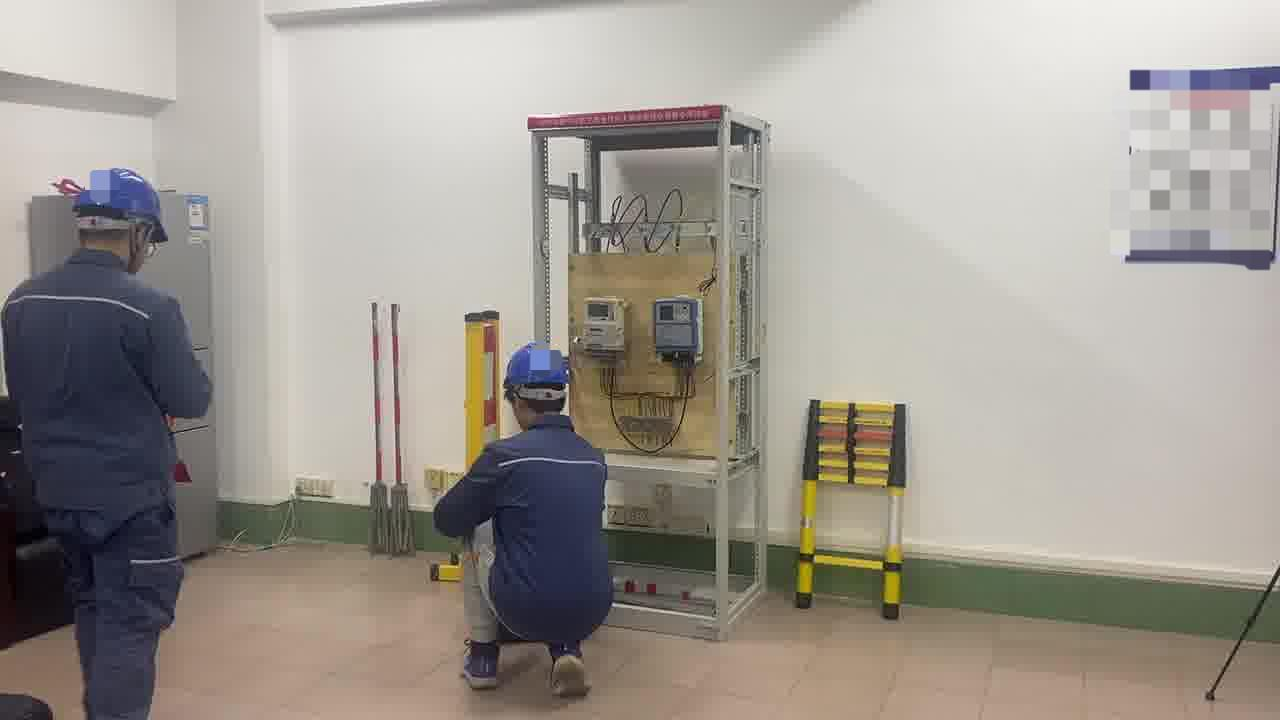halt: (73, 167, 171, 266), (504, 343, 574, 426)
inear: (126, 222, 155, 269)
